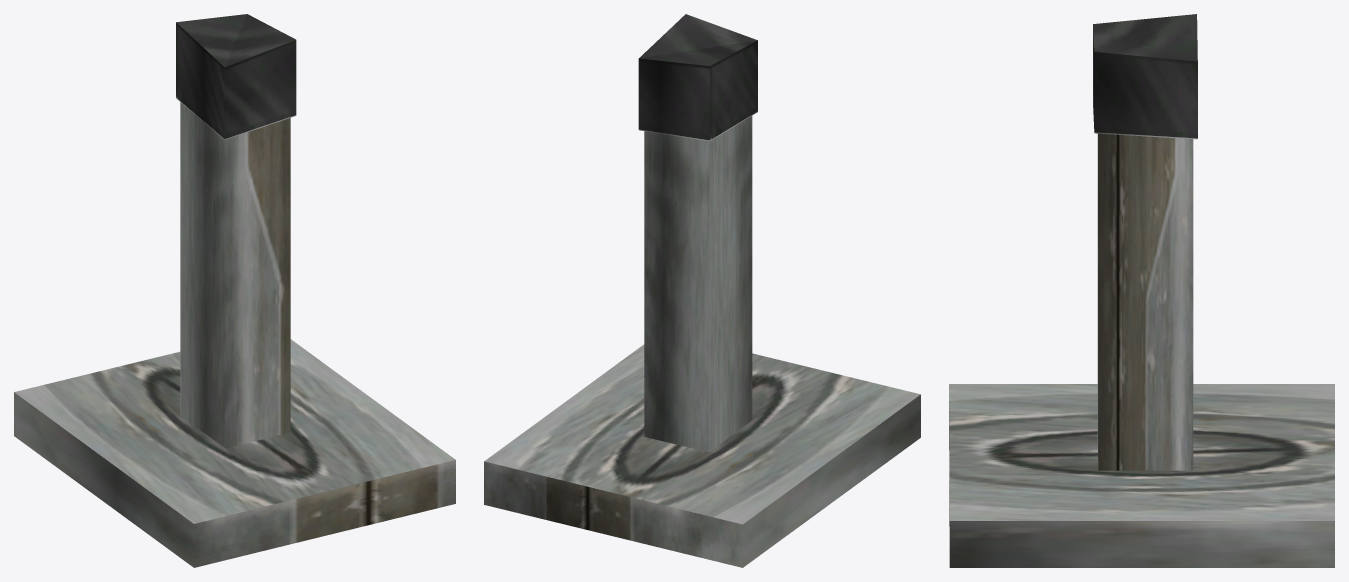
The model's file is frn_all_glow_lamp_l2.fbx.
3 renders of one model, left to right at view 1: azimuth 30°, elevation 25°; view 2: azimuth 150°, elevation 25°; view 3: azimuth 270°, elevation 25°, orthographic. The views are drawn at different scales.
Parts seen in each view (by area): view 1: mesh_node; view 2: mesh_node; view 3: mesh_node.
Boxes of the visible parts, left/top/right/bottom form: mesh_node: left=14, top=14, right=455, bottom=567; mesh_node: left=484, top=14, right=920, bottom=567; mesh_node: left=949, top=14, right=1334, bottom=567.
Bounding box in the file's own units: 0.0825 × 0.1316 × 0.0983.
